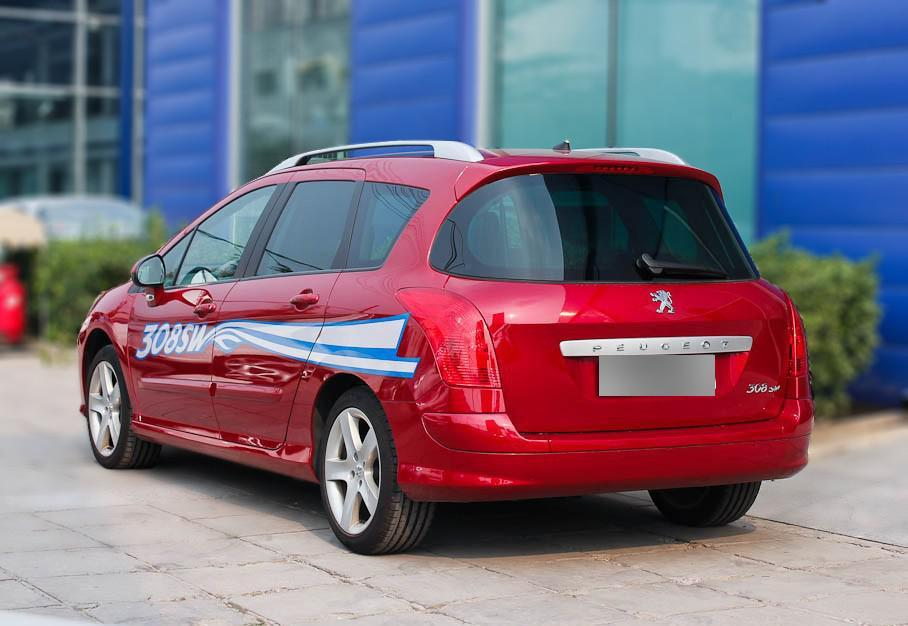Wagon: (79, 138, 813, 556)
